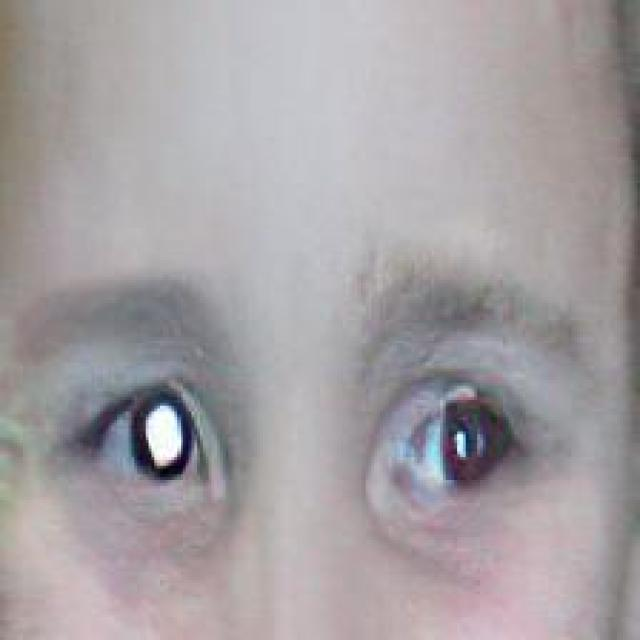reflexo-alterado: (82, 360, 224, 524)
reflexo-normal: (371, 360, 535, 532)
